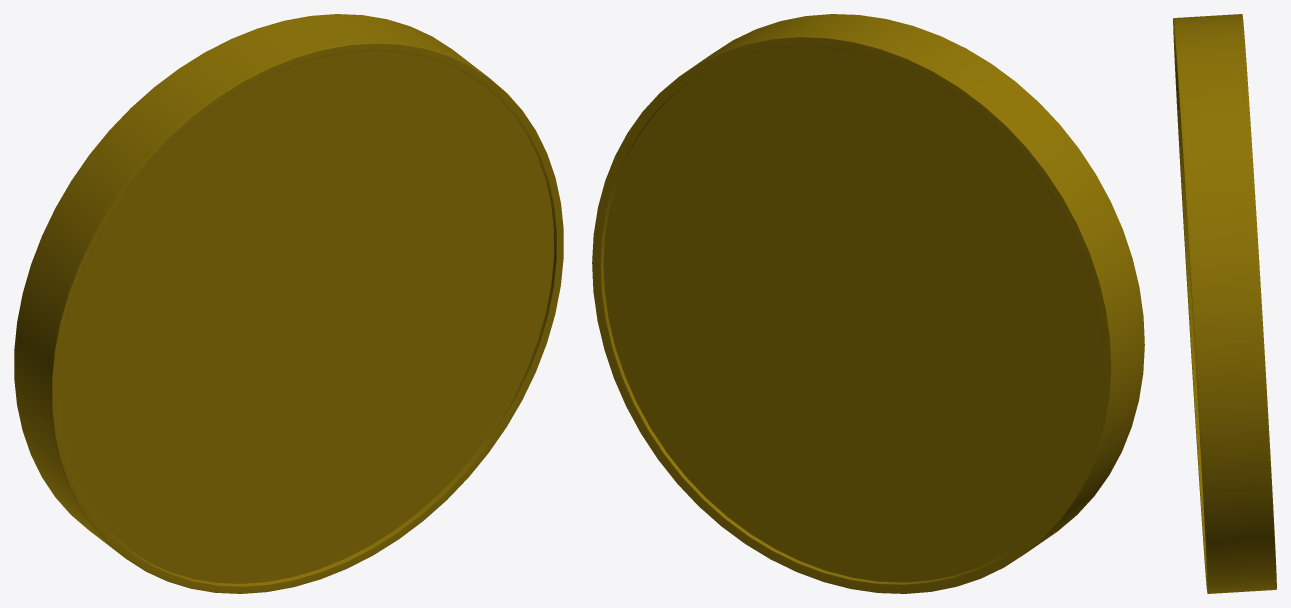
The model's file is Coin.fbx.
3 views of the same model, side by side, from view 1: azimuth 30°, elevation 25°; view 2: azimuth 150°, elevation 25°; view 3: azimuth 270°, elevation 25° (orthographic). The views are drawn at different scales.
Parts seen in each view (by area): view 1: polySurface5; view 2: polySurface5; view 3: polySurface5.
Part boxes in pixels (x1,y1,x2,y2): polySurface5: (14, 14, 563, 593); polySurface5: (592, 14, 1144, 593); polySurface5: (1173, 14, 1276, 593).
Size of the model in its own units: 3.15 by 3.15 by 0.5647.
